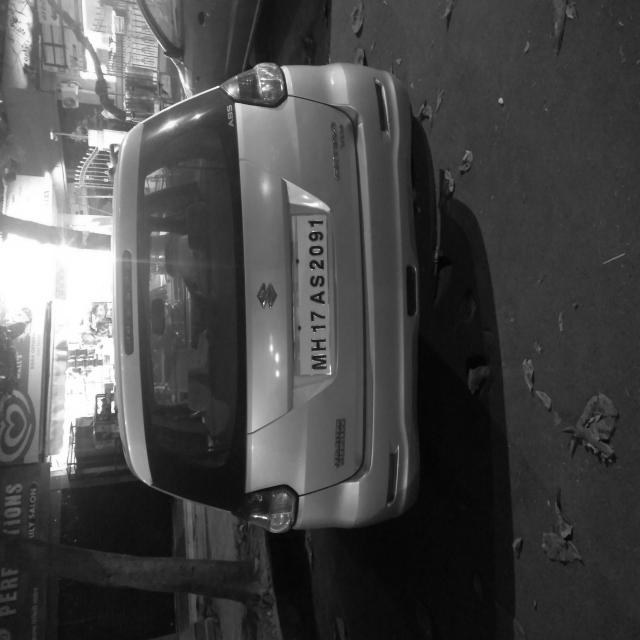car: (78, 143, 437, 582)
license-plate: (198, 396, 322, 443)
